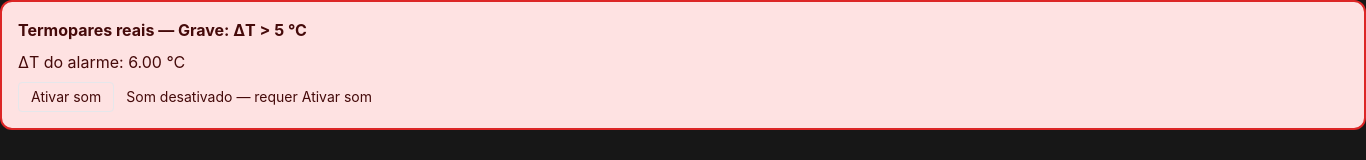
it: blocked audio is visible while severe visual remains
Click the button "Ativar som" at [66, 97], box [18,82,114,112]
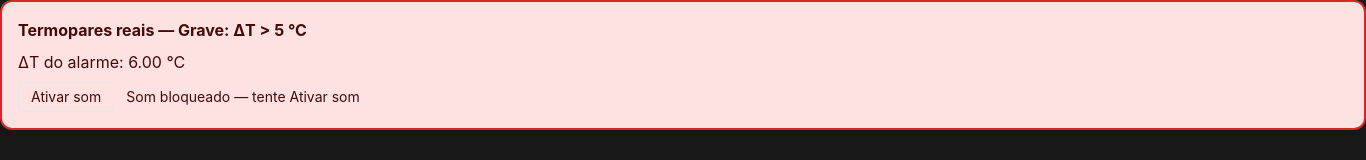
Check: the heading "Termopares reais — Grave: ΔT > 5 °C" is shown, box [18,20,307,40]
Check: the text "Som bloqueado — tente Ativar som" is shown, box [126,87,360,107]
